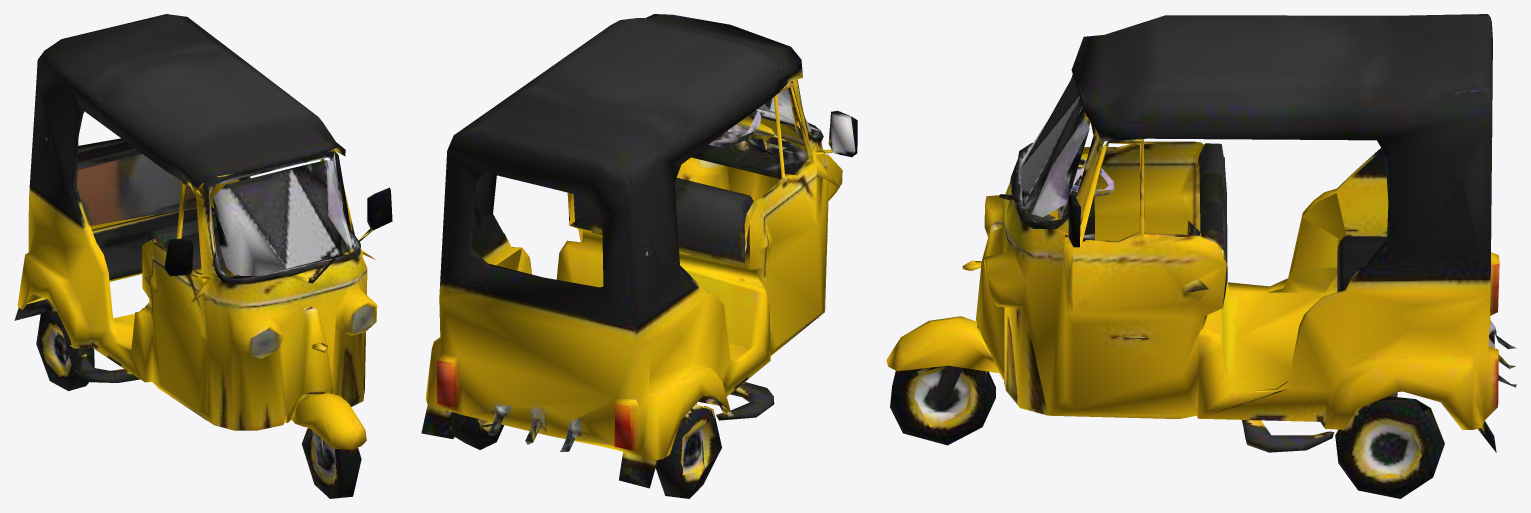
Rendered from keke.glb.
3 renders of one model, left to right at view 1: azimuth 30°, elevation 25°; view 2: azimuth 150°, elevation 25°; view 3: azimuth 270°, elevation 25°, orthographic. The views are drawn at different scales.
Parts seen in each view (by area): view 1: keke, wheel_f, wheel_rl; view 2: keke, wheel_rl, wheel_rr; view 3: keke, wheel_rr, wheel_f.
Boxes of the visible parts, bbox=[...] form: keke: bbox=[14, 14, 392, 449]; wheel_f: bbox=[302, 428, 361, 498]; wheel_rl: bbox=[36, 307, 94, 390]; keke: bbox=[421, 14, 857, 488]; wheel_rl: bbox=[655, 403, 721, 498]; wheel_rr: bbox=[455, 416, 504, 449]; keke: bbox=[886, 14, 1516, 452]; wheel_rr: bbox=[1335, 392, 1444, 498]; wheel_f: bbox=[890, 365, 995, 445].
Bounding box in the file's own units: 1.71 × 2.17 × 3.16.
1 material, 1 textured.
